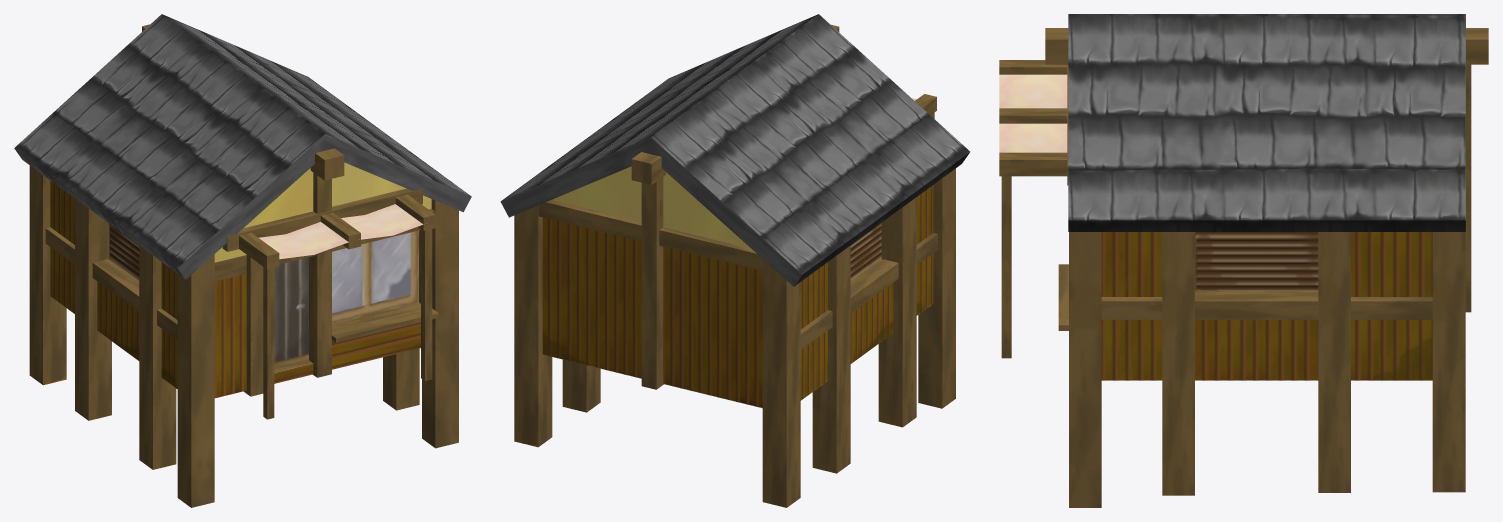
The model's file is Fishing Cottage.fbx.
The picture shows the model from 3 angles, left to right: view 1: azimuth 30°, elevation 25°; view 2: azimuth 150°, elevation 25°; view 3: azimuth 270°, elevation 25°; orthographic projection. The views are drawn at different scales.
Parts seen in each view (by area): view 1: FishingCottage; view 2: FishingCottage; view 3: FishingCottage.
Part boxes in pixels (box(x1,y1,x2,y2)): FishingCottage: box(14, 14, 471, 507); FishingCottage: box(500, 14, 970, 507); FishingCottage: box(999, 14, 1488, 507).
Bounding box in the file's own units: 20.12 × 22.34 × 23.9.
Materials: 1 (1 with a texture image).
